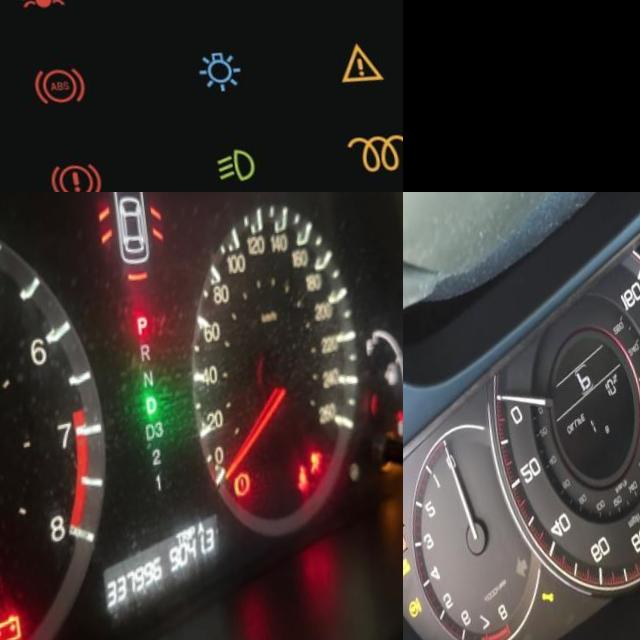High Engine Coolant Temperature: (15, 0, 66, 23)
Seat Belt: (285, 480, 301, 511)
